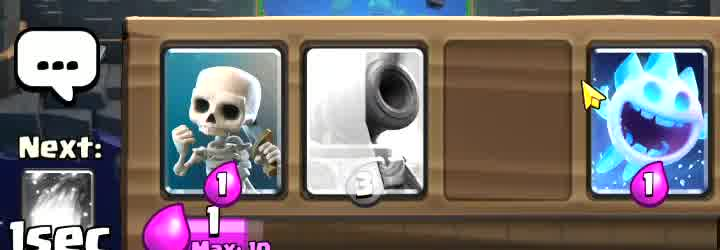ice-spirit: (587, 47, 707, 200)
